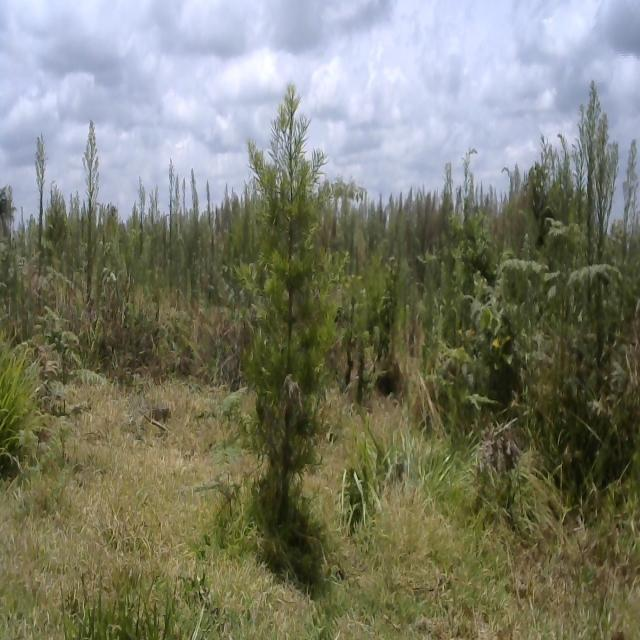Podocarpus falcatus: (228, 44, 344, 550)
